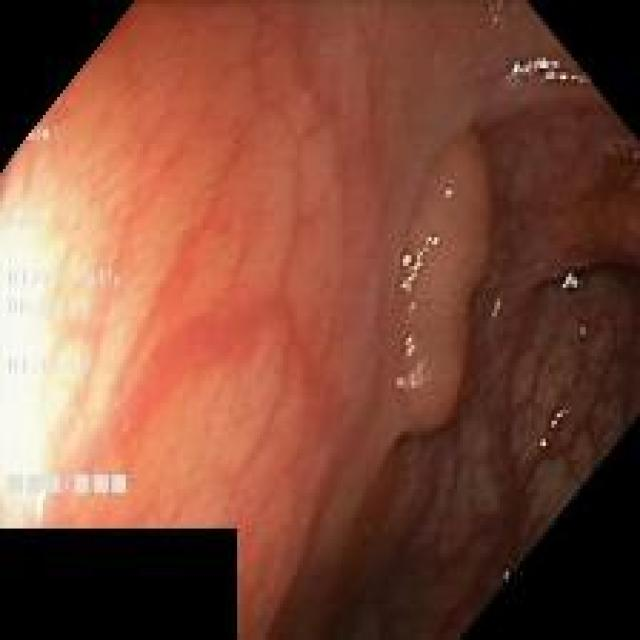Polyps: (366, 132, 494, 468)
